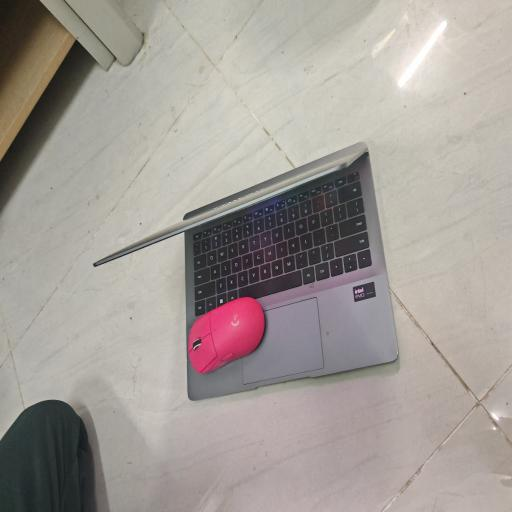laptop: (94, 142, 398, 400)
mouse: (188, 298, 265, 374)
